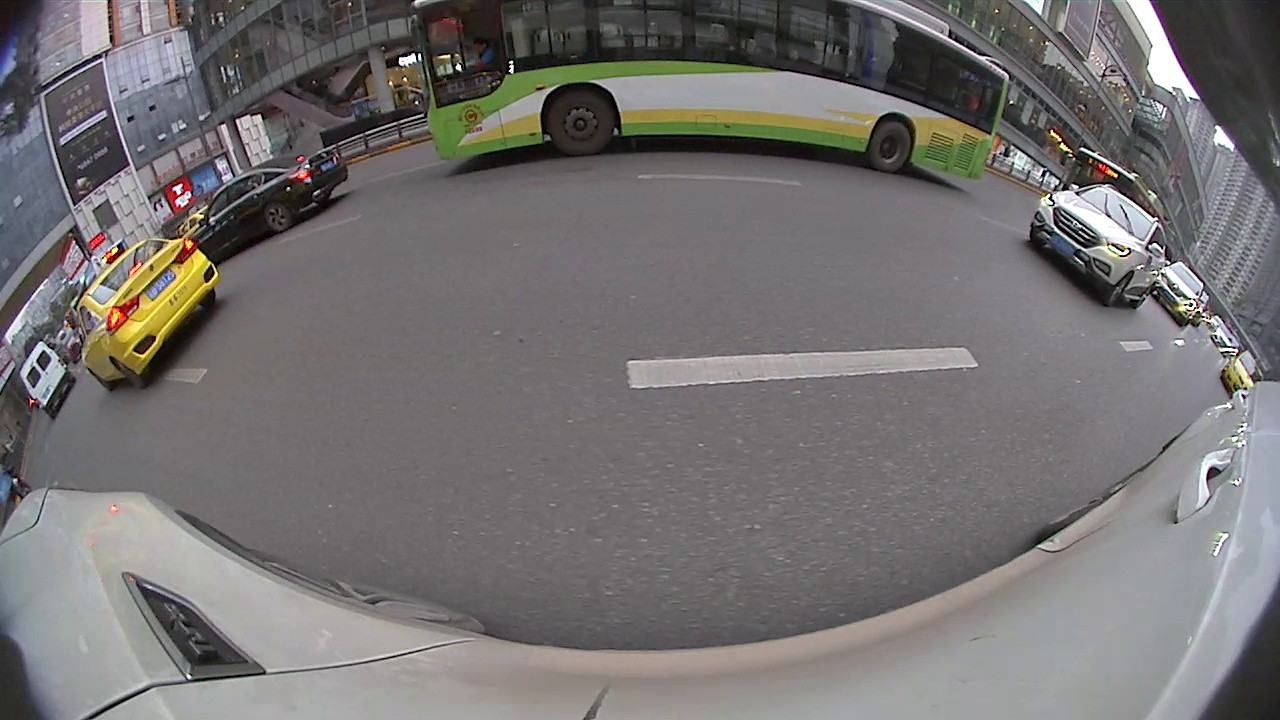bus: (410, 2, 1008, 188)
car: (70, 239, 224, 388), (1028, 184, 1169, 311), (194, 150, 346, 262), (17, 340, 77, 424), (1150, 260, 1210, 329)
front: (546, 92, 616, 158), (1103, 272, 1131, 309)
rear: (867, 119, 913, 176), (112, 356, 149, 393), (260, 201, 294, 233)
